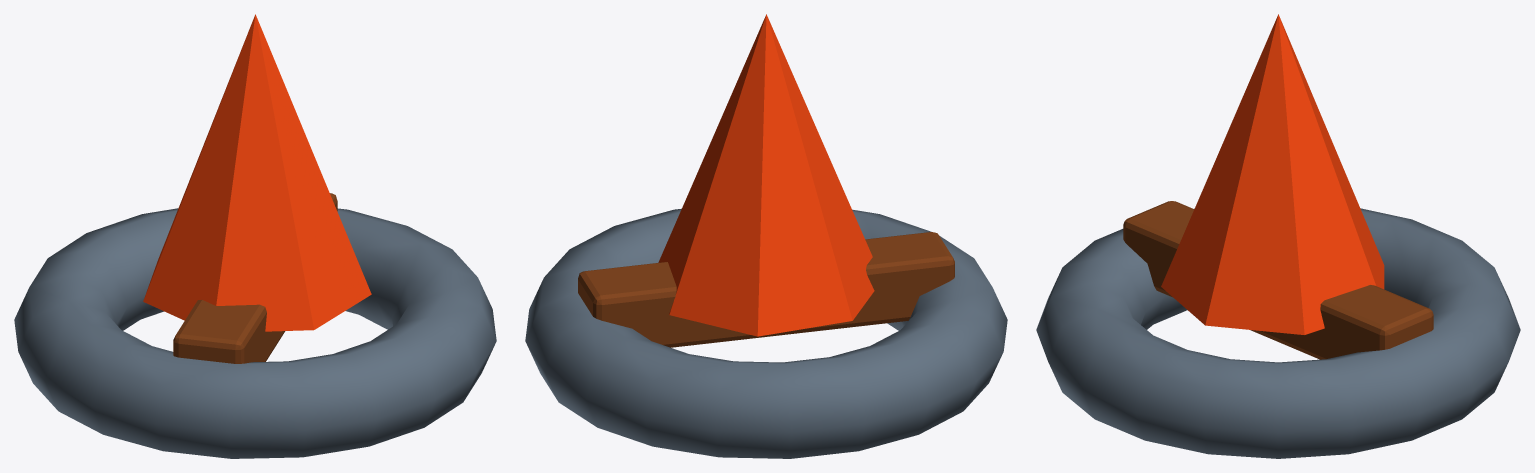
The model's file is traveler_camp_firepit_lod1.obj.
3 views of the same model, side by side, from view 1: azimuth 30°, elevation 25°; view 2: azimuth 150°, elevation 25°; view 3: azimuth 270°, elevation 25° (orthographic).
Visible parts, largest first — view 1: ow_firepit_lod1_ring_M_stone, ow_firepit_lod1_flame_M_orange, ow_firepit_lod1_logs_M_wood; view 2: ow_firepit_lod1_ring_M_stone, ow_firepit_lod1_flame_M_orange, ow_firepit_lod1_logs_M_wood; view 3: ow_firepit_lod1_ring_M_stone, ow_firepit_lod1_flame_M_orange, ow_firepit_lod1_logs_M_wood.
Boxes of the visible parts, x1,y1,x2,y2 form: ow_firepit_lod1_ring_M_stone: (14, 208, 496, 458); ow_firepit_lod1_flame_M_orange: (143, 14, 371, 331); ow_firepit_lod1_logs_M_wood: (173, 193, 337, 363); ow_firepit_lod1_ring_M_stone: (525, 208, 1007, 458); ow_firepit_lod1_flame_M_orange: (658, 14, 874, 336); ow_firepit_lod1_logs_M_wood: (578, 232, 954, 347); ow_firepit_lod1_ring_M_stone: (1036, 208, 1520, 458); ow_firepit_lod1_flame_M_orange: (1161, 14, 1384, 334); ow_firepit_lod1_logs_M_wood: (1123, 201, 1433, 359).
Size of the model in its own units: 1.32 by 1.09 by 1.32.
